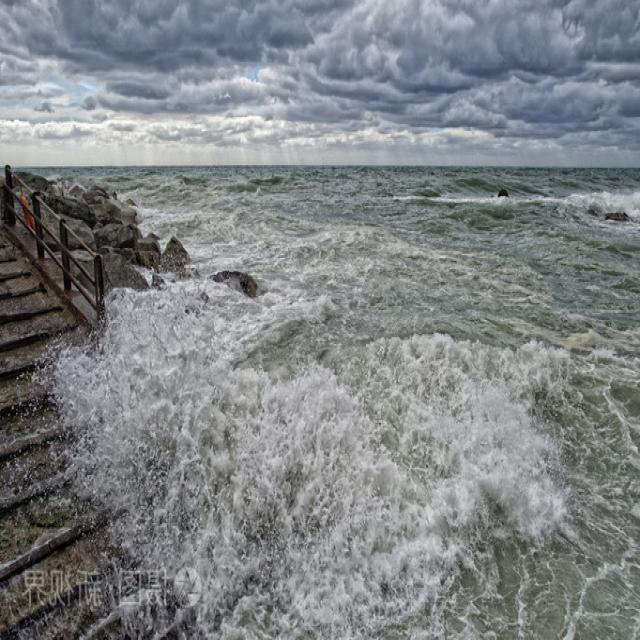reef: (88, 172, 264, 277)
